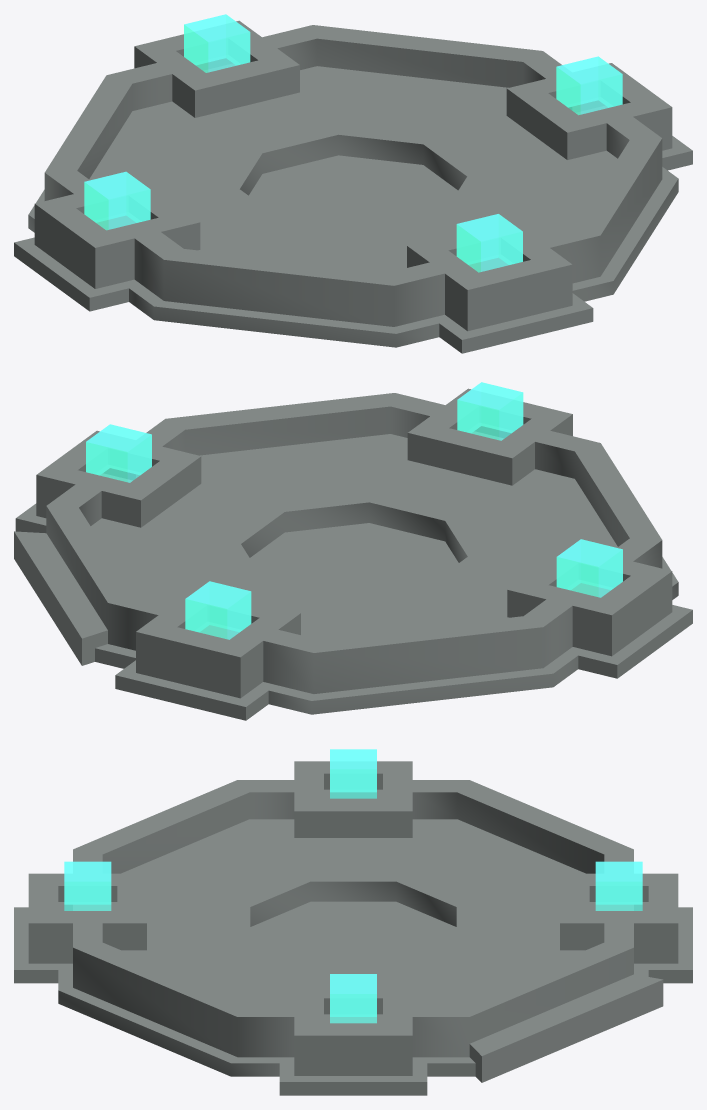
3 views of the same model, one above another, from view 1: azimuth 30°, elevation 25°; view 2: azimuth 150°, elevation 25°; view 3: azimuth 270°, elevation 25° (orthographic). The views are drawn at different scales.
Parts seen in each view (by area): view 1: Portal_2x2x1_2, Portal_2x2x1_1; view 2: Portal_2x2x1_2, Portal_2x2x1_1; view 3: Portal_2x2x1_2, Portal_2x2x1_1.
Boxes of the visible parts, x1,y1,x2,y2 form: Portal_2x2x1_2: (14, 20, 692, 353); Portal_2x2x1_1: (84, 14, 622, 272); Portal_2x2x1_2: (14, 388, 692, 720); Portal_2x2x1_1: (86, 382, 622, 639); Portal_2x2x1_2: (14, 761, 692, 1095); Portal_2x2x1_1: (64, 749, 642, 1023).
Bounding box in the file's own units: 2.3 × 0.3 × 2.3.
